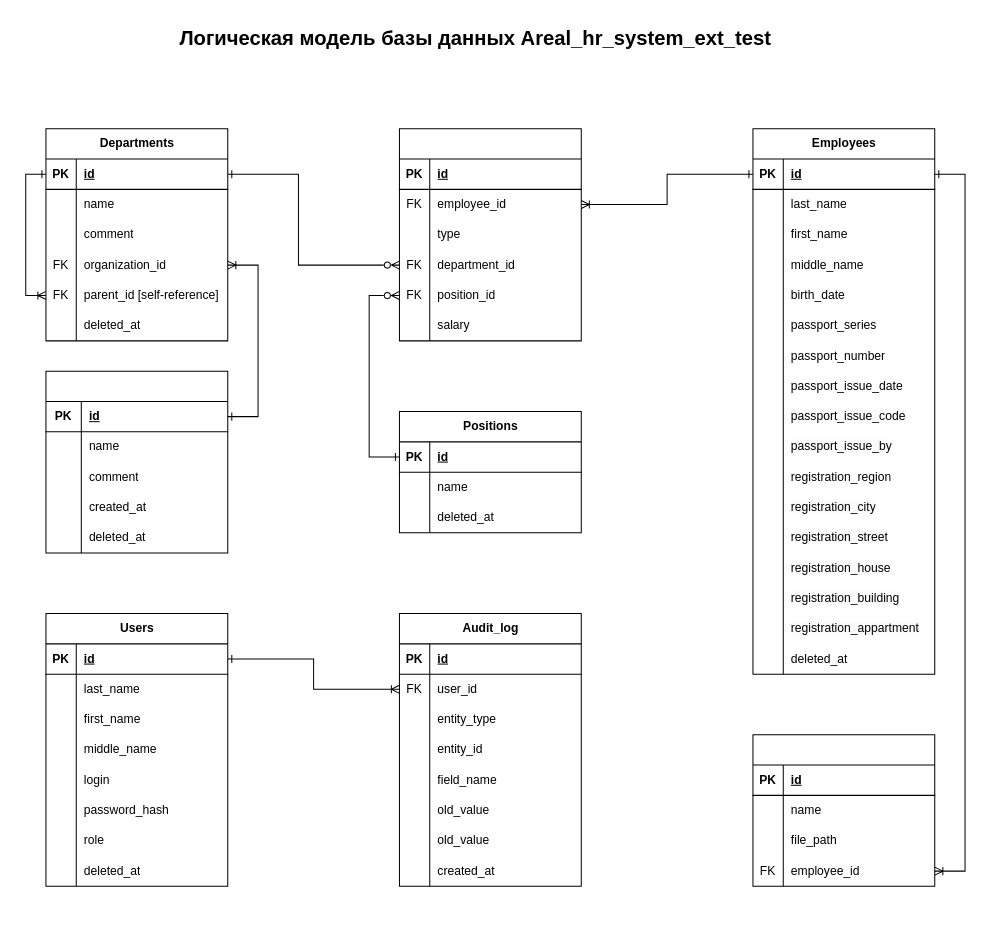
The diagram is 992 pixels wide and 944 high, and some of its shapes have lost their labels. Here are the shapes that lost their labels. From the top down, the box of each, then its label:
(398, 128, 581, 341): HR_operations
(45, 370, 228, 553): Organizations
(752, 734, 935, 886): Files
